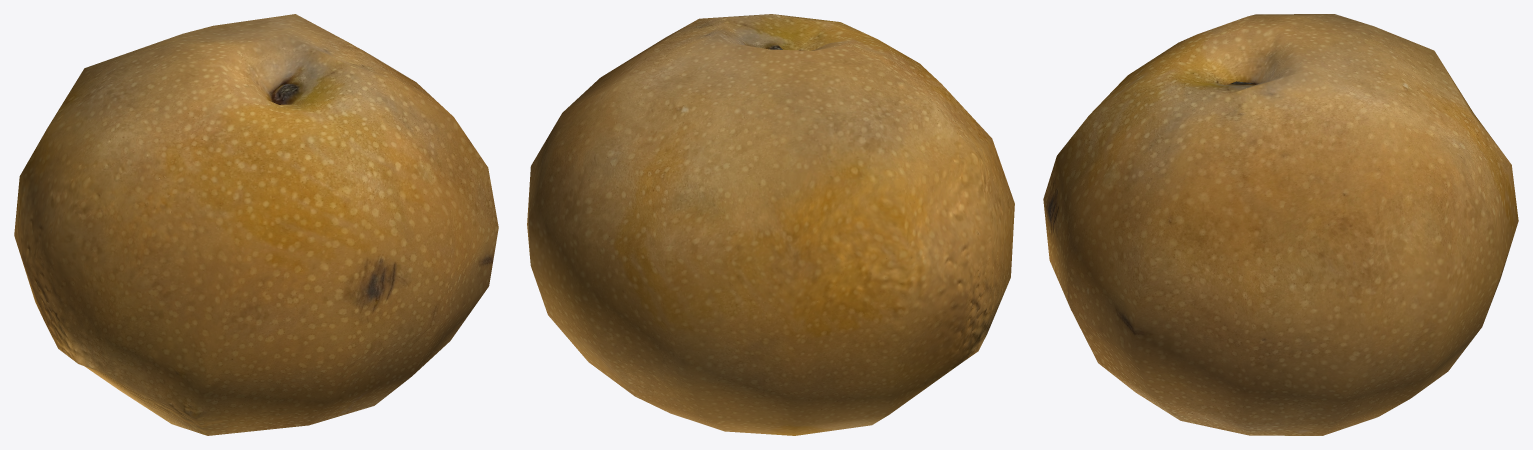
Rendered from A133_Asian_Pear_low.fbx.
The picture shows the model from 3 angles, left to right: view 1: azimuth 30°, elevation 25°; view 2: azimuth 150°, elevation 25°; view 3: azimuth 270°, elevation 25°; orthographic projection. The views are drawn at different scales.
Visible parts, largest first — view 1: A133_Asian_Pear_low; view 2: A133_Asian_Pear_low; view 3: A133_Asian_Pear_low.
Boxes of the visible parts, x1,y1,x2,y2 form: A133_Asian_Pear_low: (14,14,498,435); A133_Asian_Pear_low: (527,14,1014,435); A133_Asian_Pear_low: (1043,14,1518,435).
Size of the model in its own units: 8.36 by 8.33 by 6.64.
Materials: 1 (1 with a texture image).
